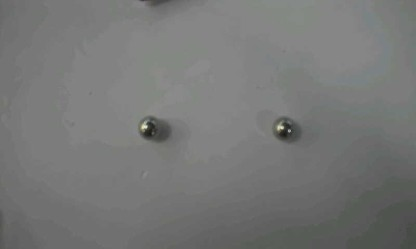ironball: (137, 114, 161, 139), (271, 115, 294, 138)
